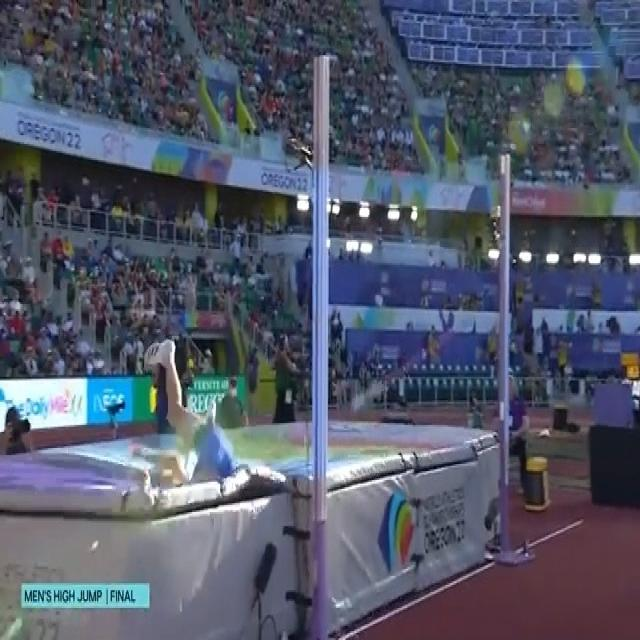land: (146, 334, 237, 488)
